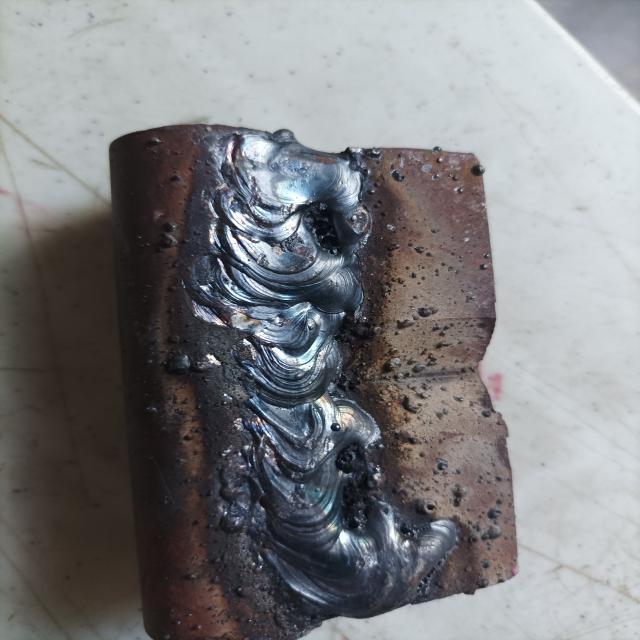Porosity: (302, 201, 344, 260), (332, 440, 363, 475), (278, 232, 303, 253), (343, 515, 365, 531)
